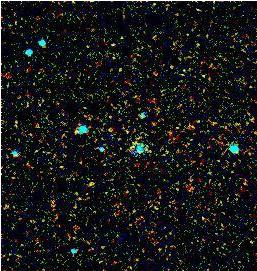star: (93, 115, 123, 145)
